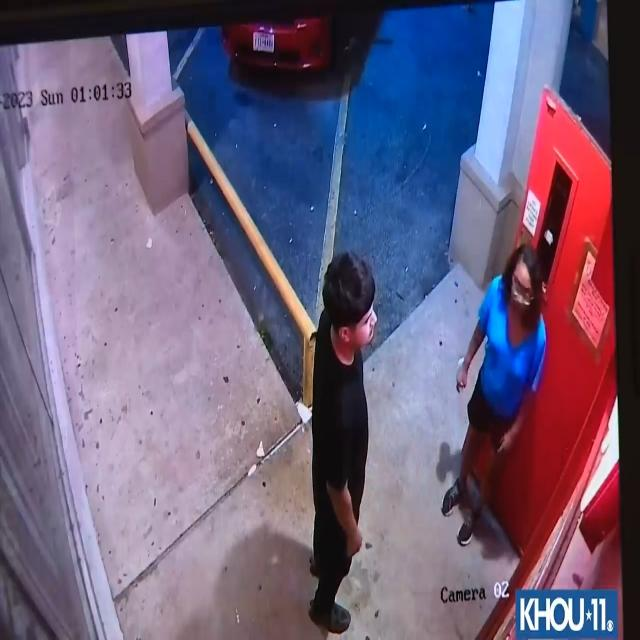Person: (452, 230, 546, 548), (309, 253, 368, 635)
